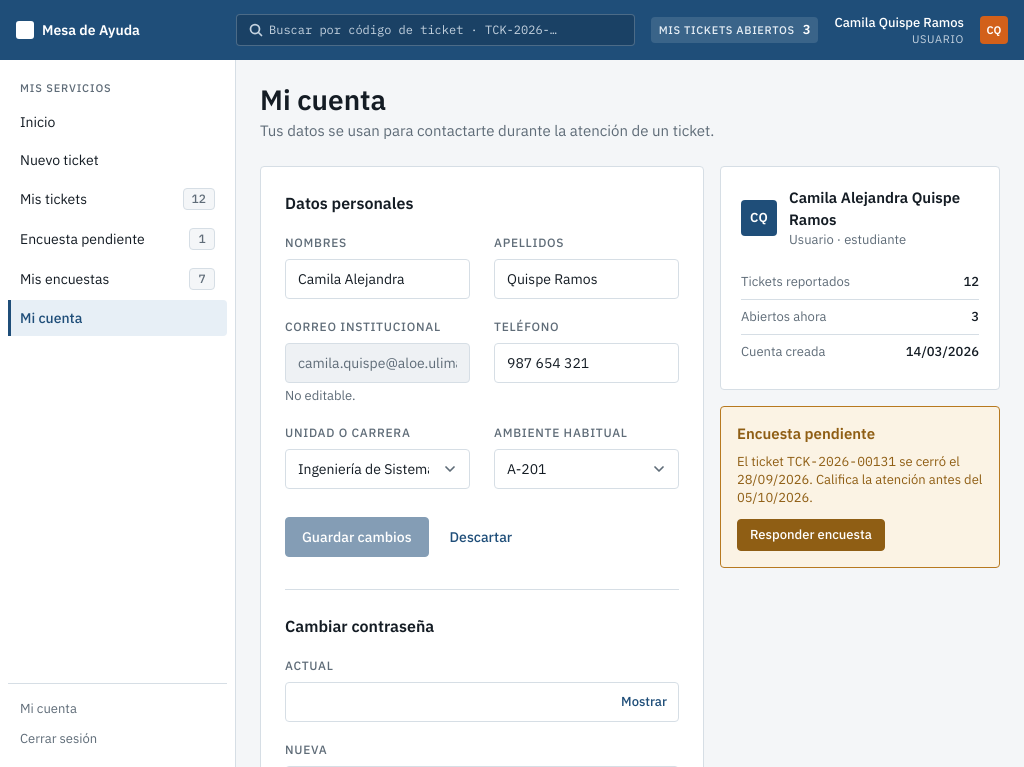
Test: AccountPage · edición › «Descartar» pide confirmación y vuelve a los datos guardados
Expected: the form named "Datos personales" is shown, [285,235,679,557]
Expected: the text "Mis tickets abiertos" is shown, [659,22,795,38]
Step 1. Replace the text in the field labelled "Nombres" with "Valeria" → (378, 279), box [285,259,470,299]
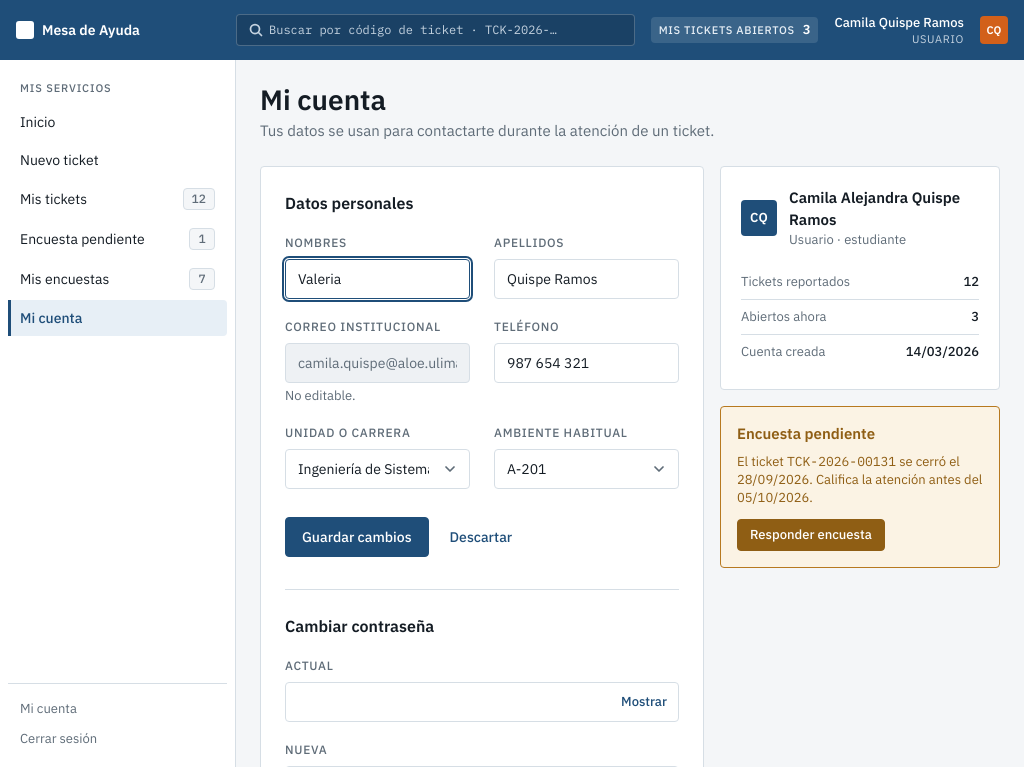
Step 2. Select "Arquitectura" in the dropdown labelled "Unidad o carrera" → (378, 469), box [285,449,470,489]
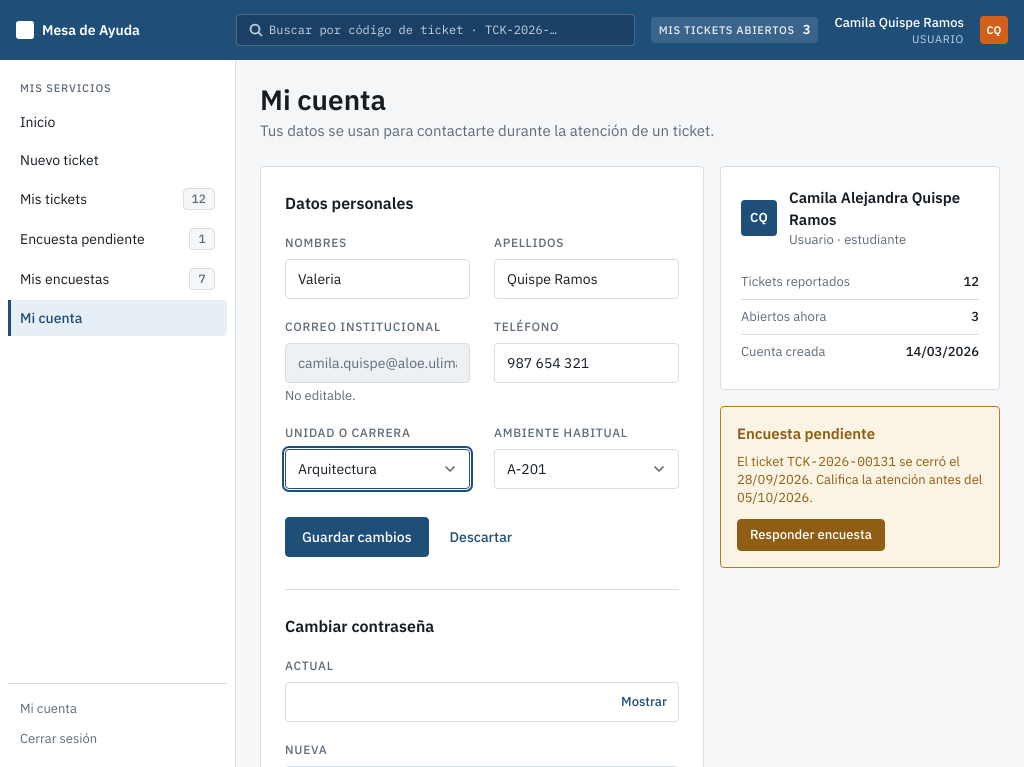
Step 3. Click the button "Descartar" → (481, 537), box [441,517,521,557]
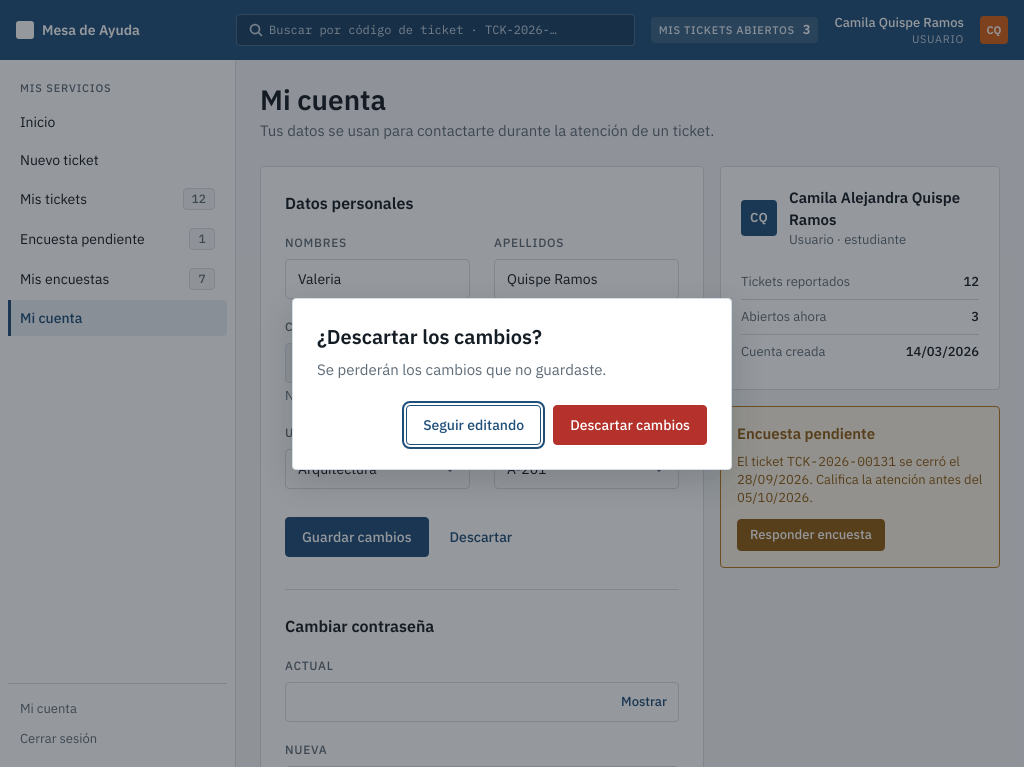
Step 4. Click the button "Seguir editando" → (474, 425), box [406,405,541,445]
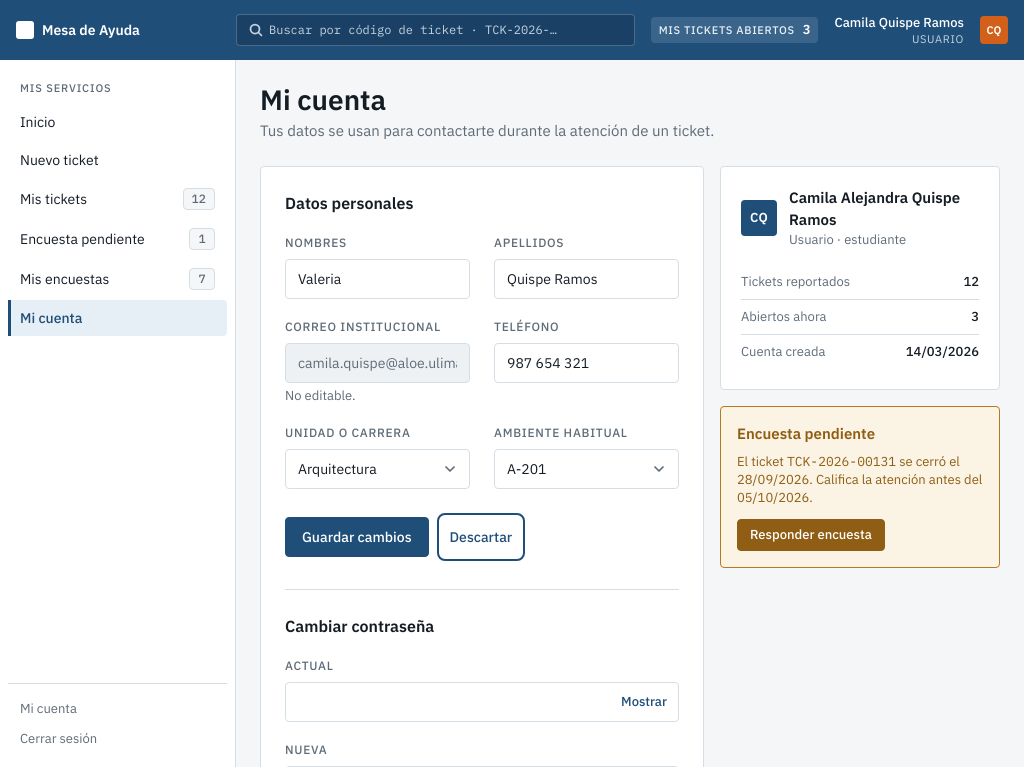
Step 5. Click the button "Descartar" → (481, 537), box [441,517,521,557]
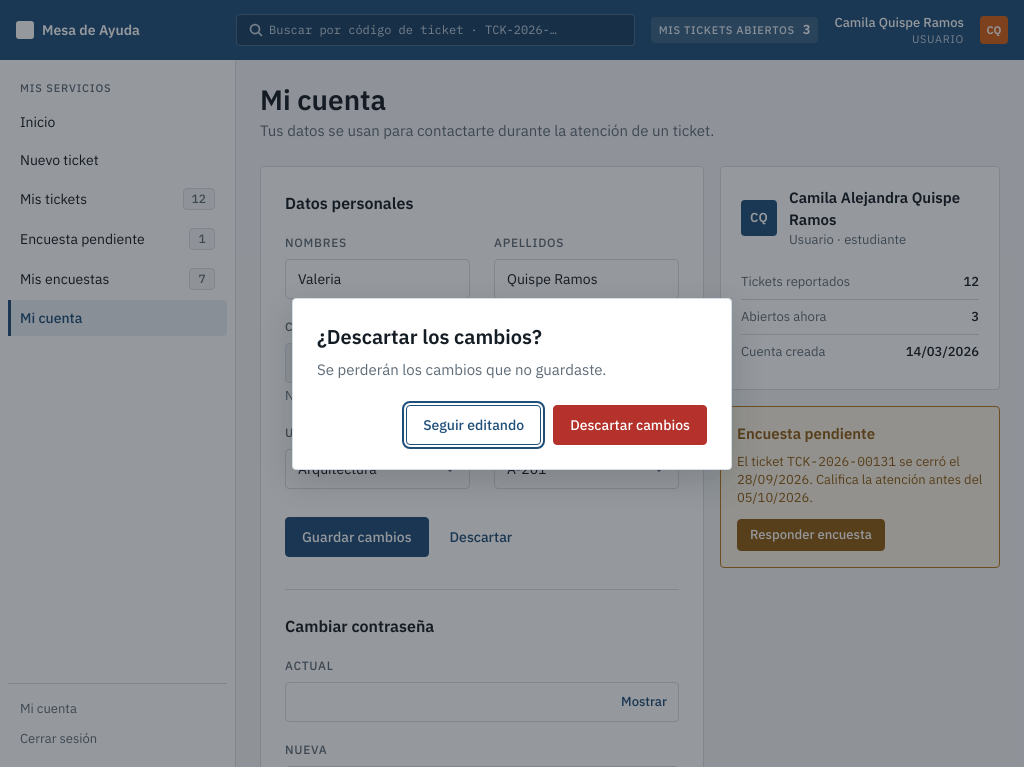
Step 6. Click the button "Descartar cambios" → (630, 425), box [553,405,707,445]
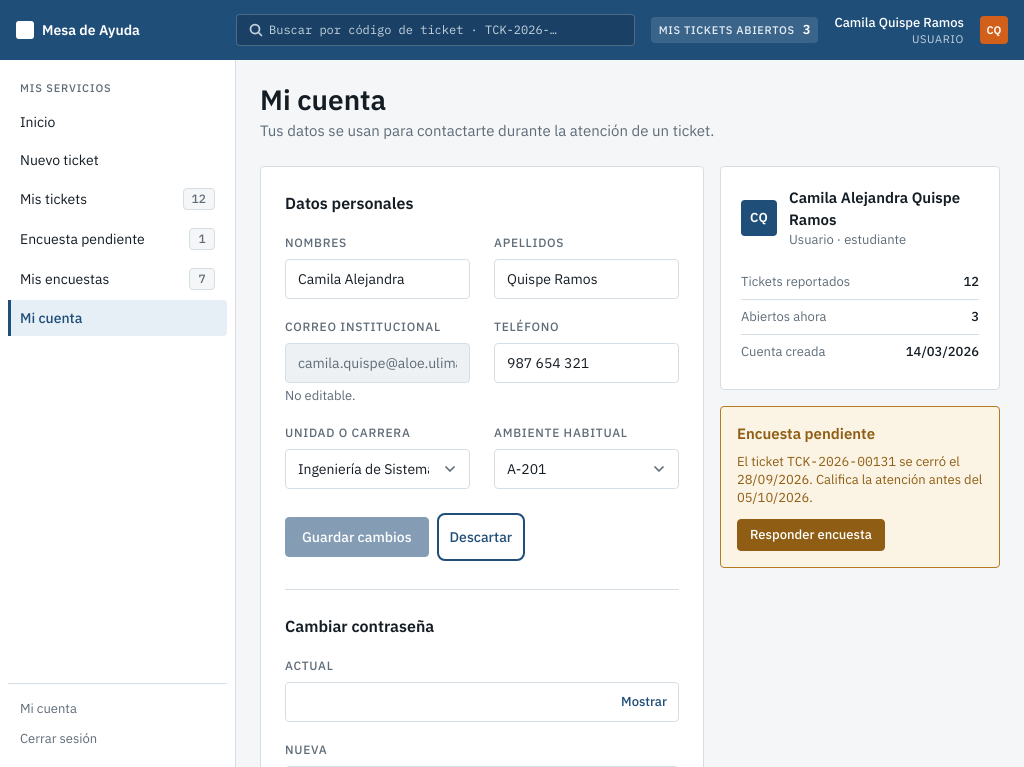
Result: the dialog is gone
Result: the field labelled "Nombres" holds "Camila Alejandra" at [285,259,470,299]
Result: the button "Guardar cambios" is disabled at [285,517,429,557]
